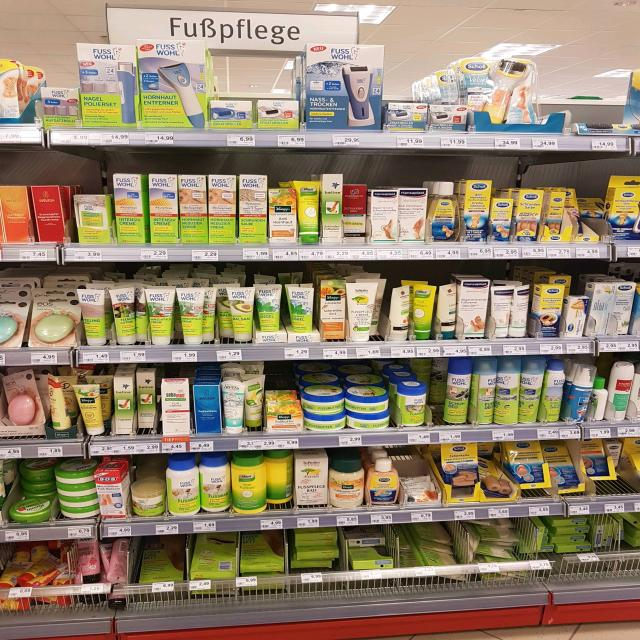empty: (537, 62, 633, 133)
